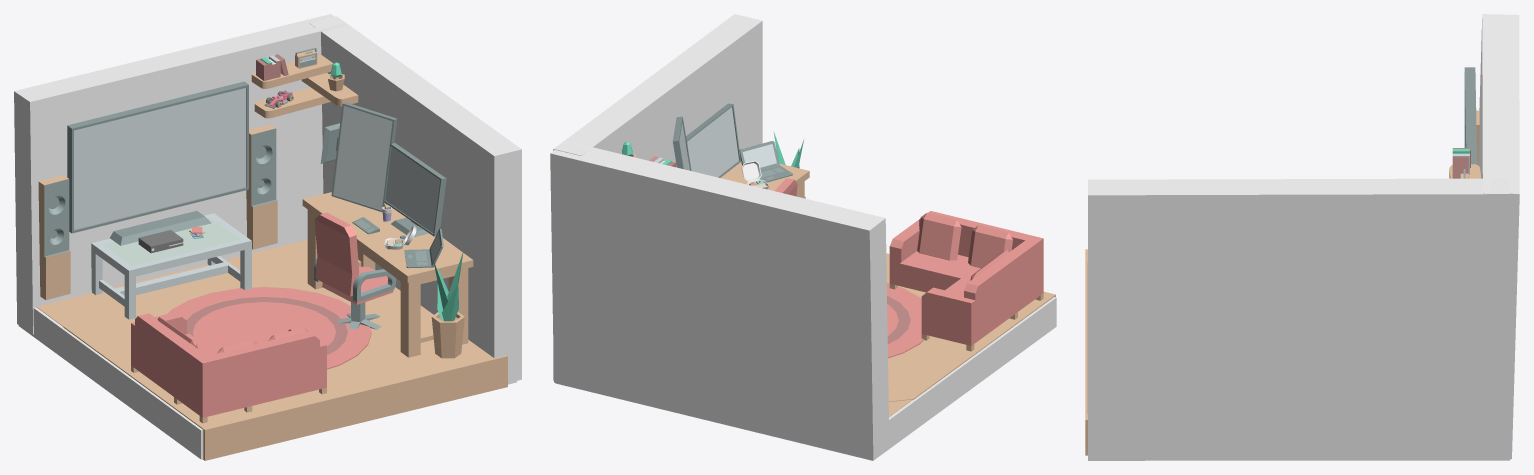
The model's file is VariefyScene.fbx.
3 renders of one model, left to right at view 1: azimuth 30°, elevation 25°; view 2: azimuth 150°, elevation 25°; view 3: azimuth 270°, elevation 25°, orthographic. The views are drawn at different scales.
Parts seen in each view (by area): view 1: Cube__2__1, floorCorner, Cube__1_, televisionModern, loungeSofaCorner, rugRound, sideTable, tableGlass, computerScreen__1_, Cube_1, chair, computerScreen (+12 smaller); view 2: Cube__2__1, Cube__1_, loungeSofaCorner, Cube_1, floorCorner, computerScreen, rugRound, pillow, pillow__1_, laptop, sideTable, computerScreen__1_; view 3: Cube__1_, Cube__2__1, televisionModern, floorCorner, books__1_.
Boxes of the visible parts, x1,y1,x2,y2 form: Cube__2__1: (14, 14, 346, 334); floorCorner: (63, 240, 507, 460); Cube__1_: (310, 16, 521, 382); televisionModern: (67, 81, 248, 245); loungeSofaCorner: (131, 312, 326, 423); rugRound: (167, 287, 371, 369); sideTable: (302, 192, 473, 357); tableGlass: (91, 213, 251, 319); computerScreen__1_: (320, 102, 397, 212); Cube_1: (18, 307, 516, 459); chair: (314, 212, 396, 304); computerScreen: (384, 143, 446, 237); Cube__2__1: (550, 141, 889, 459); Cube__1_: (553, 14, 762, 380); loungeSofaCorner: (889, 211, 1043, 351); Cube_1: (555, 297, 1056, 460); floorCorner: (886, 253, 1055, 401); computerScreen: (686, 103, 740, 177); rugRound: (886, 283, 924, 358); pillow: (917, 212, 961, 260); pillow__1_: (968, 225, 1012, 267); laptop: (739, 141, 792, 182); sideTable: (721, 161, 809, 198); computerScreen__1_: (672, 116, 691, 170); Cube__1_: (1087, 178, 1508, 460); Cube__2__1: (1478, 14, 1519, 459); televisionModern: (1464, 67, 1477, 164); floorCorner: (1085, 249, 1087, 455); books__1_: (1452, 148, 1470, 178).
Bounding box in the file's own units: 100 × 69.74 × 102.
